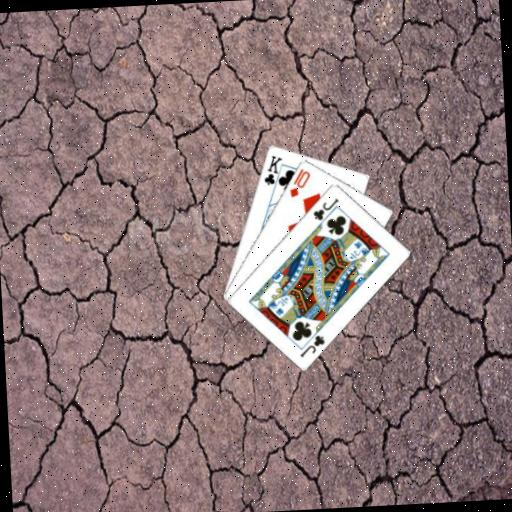10D: (286, 165, 313, 199)
JC: (309, 195, 341, 222), (296, 331, 328, 358)
KC: (260, 152, 286, 192)
